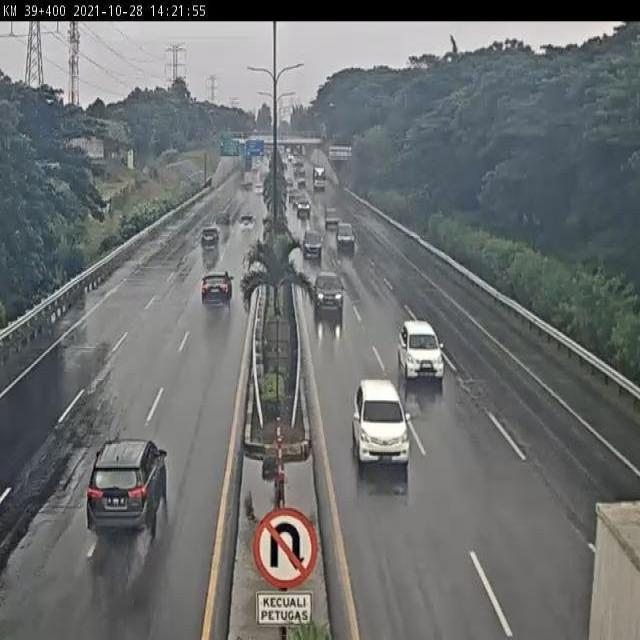car: (88, 434, 169, 534), (350, 379, 409, 465), (398, 320, 446, 381), (310, 266, 346, 314), (200, 268, 235, 307), (302, 231, 325, 260), (199, 227, 221, 249), (336, 223, 354, 249)
